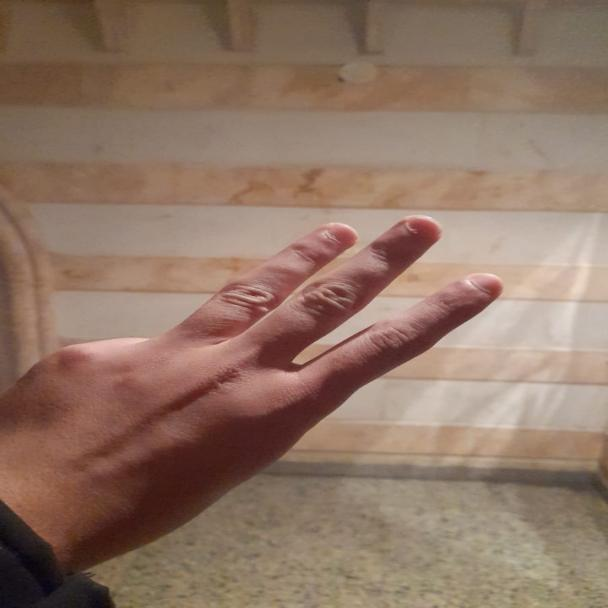five: (32, 215, 513, 496)
